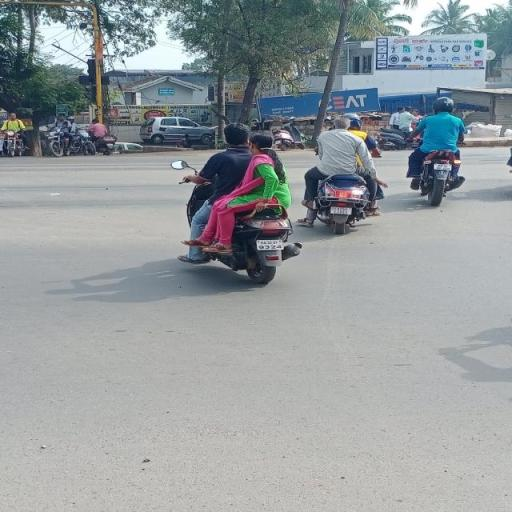bike: (170, 120, 305, 286)
numberplate: (255, 240, 284, 250)
withouthelmet: (224, 124, 250, 145), (250, 132, 274, 151)
